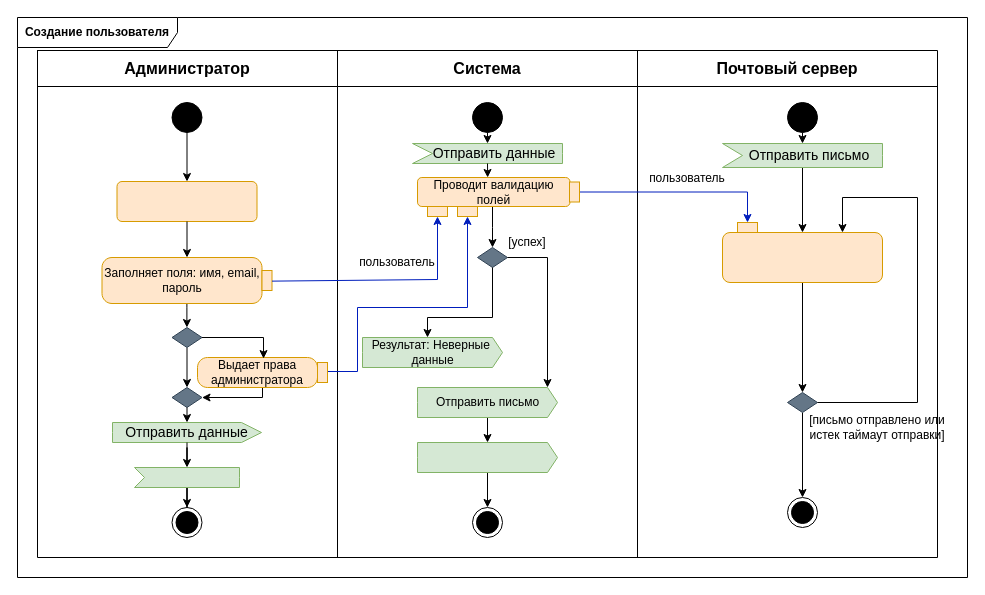
Some shapes in this 985 by 595 pixel diagram are drawn without their labels. Here are the shapes that lost their labels. From the top down, the box of each, then its label:
(116, 180, 257, 222): Выбирает "Создать пользователя"
(722, 232, 882, 282): Оправляет уведомление о регистрации
(134, 466, 240, 488): Результат
(416, 442, 558, 472): Результат: Успех
